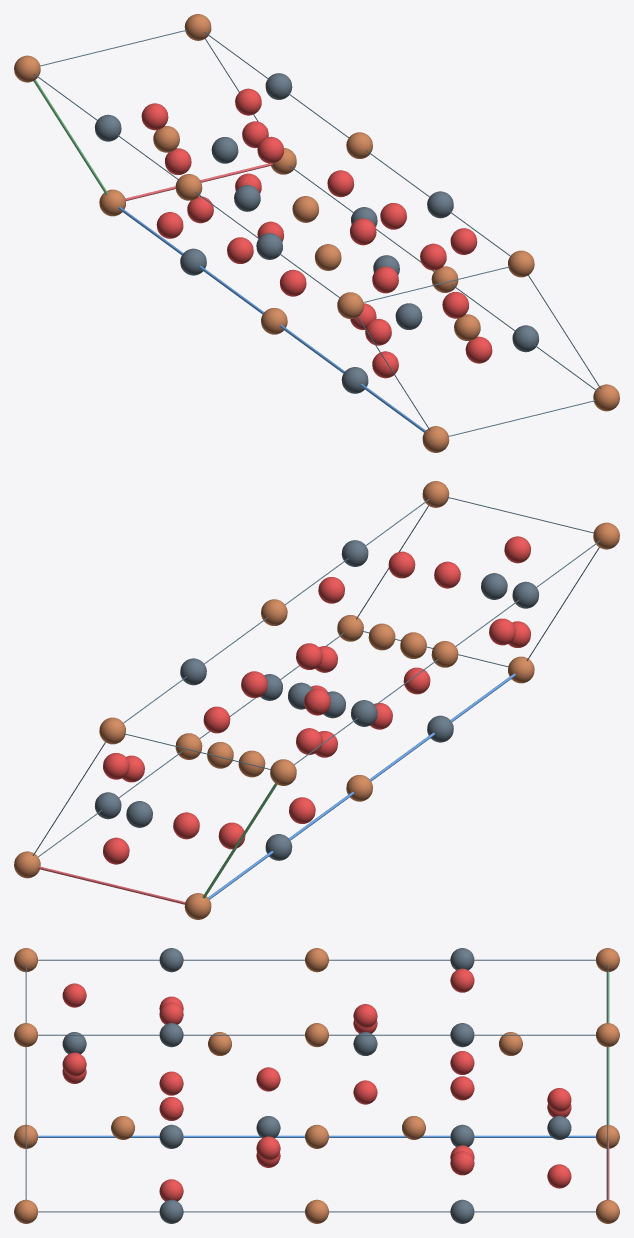
File: chat-siderite.glb
3 views of the same model, one above another, from view 1: azimuth 30°, elevation 25°; view 2: azimuth 150°, elevation 25°; view 3: azimuth 270°, elevation 25° (orthographic). The views are drawn at different scales.
Visible parts, largest first — view 1: Ô mạng và các trục a, b, c; view 2: Ô mạng và các trục a, b, c, Fe · Fe · 1, O · O · 1; view 3: O · O · 1 (×16), Fe · Fe · 1 (×16), C · C · 1 (×12), Ô mạng và các trục a, b, c.
Part boxes in pixels (x1,y1,x2,y2): Ô mạng và các trục a, b, c: (33, 30, 601, 436); Ô mạng và các trục a, b, c: (32, 497, 599, 904); Fe · Fe · 1: (368, 623, 395, 650); O · O · 1: (388, 551, 415, 578); O · O · 1 (×16): (62, 968, 571, 1201); Fe · Fe · 1 (×16): (14, 948, 619, 1223); C · C · 1 (×12): (62, 948, 571, 1223); Ô mạng và các trục a, b, c: (25, 959, 609, 1212).
Bounding box in the file's own units: 7.67 × 4.7 × 16.01.
